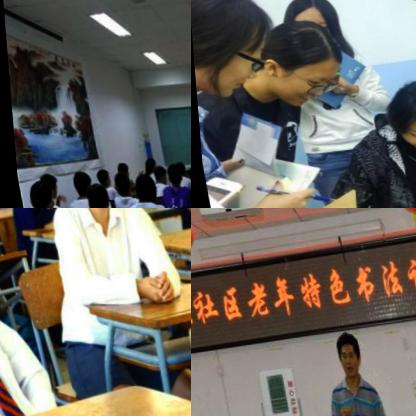head: (255, 21, 348, 112), (376, 68, 416, 156), (281, 0, 347, 52), (327, 330, 359, 382), (20, 177, 49, 208), (75, 179, 105, 208), (128, 171, 154, 201), (65, 168, 88, 196), (33, 170, 54, 199), (107, 168, 127, 195), (158, 162, 177, 183), (90, 166, 106, 190), (144, 164, 162, 184), (136, 154, 153, 173), (111, 160, 124, 175), (169, 158, 182, 172), (185, 149, 191, 164)
